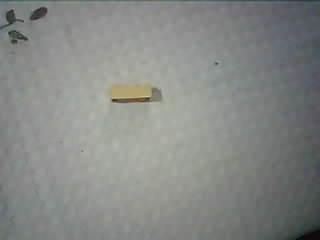lego: (108, 82, 154, 103)
